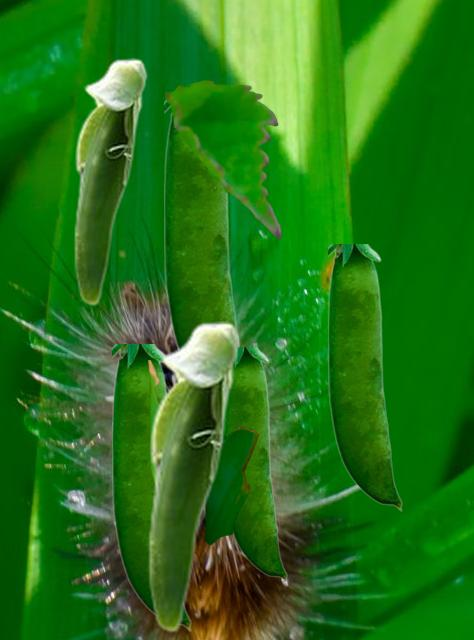pea: (147, 321, 240, 632), (112, 344, 190, 630), (328, 244, 401, 510), (164, 100, 241, 347), (73, 58, 147, 305), (225, 347, 286, 581)
